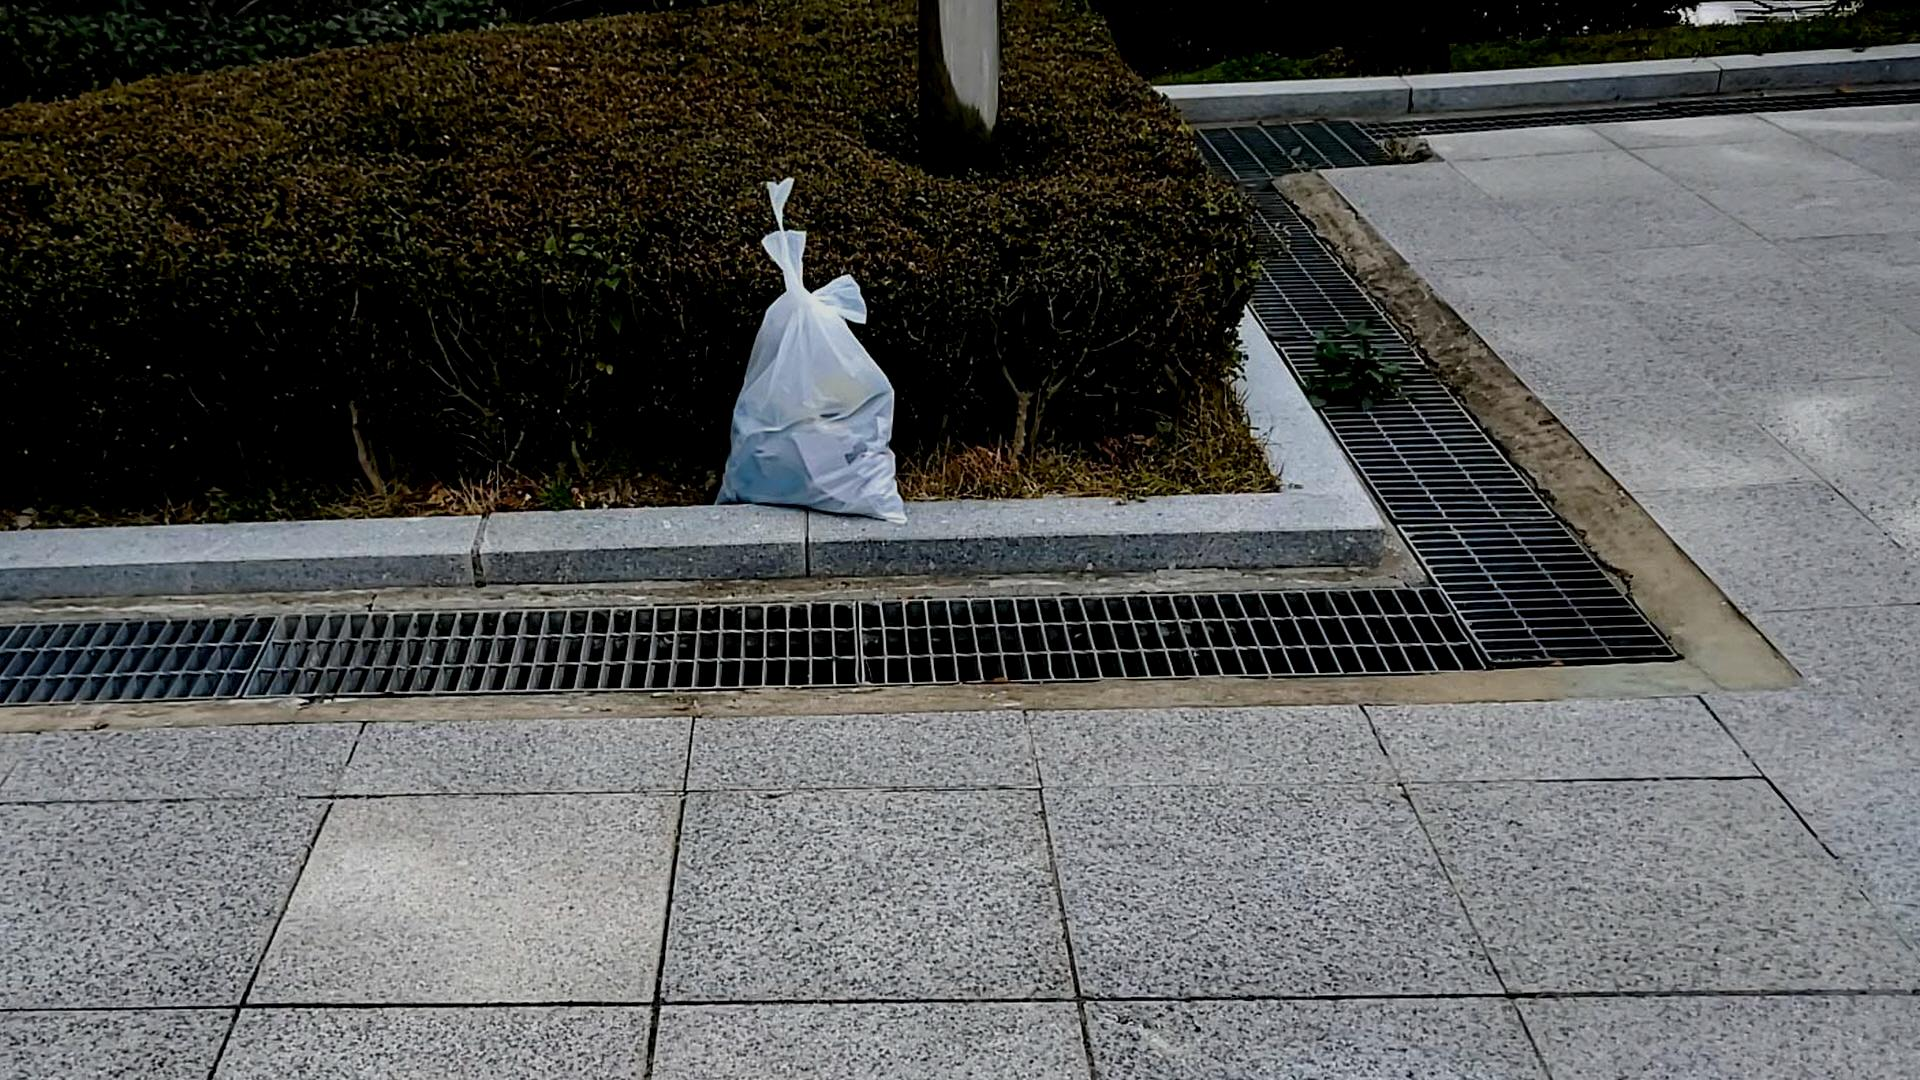white_bag: (684, 164, 932, 538)
